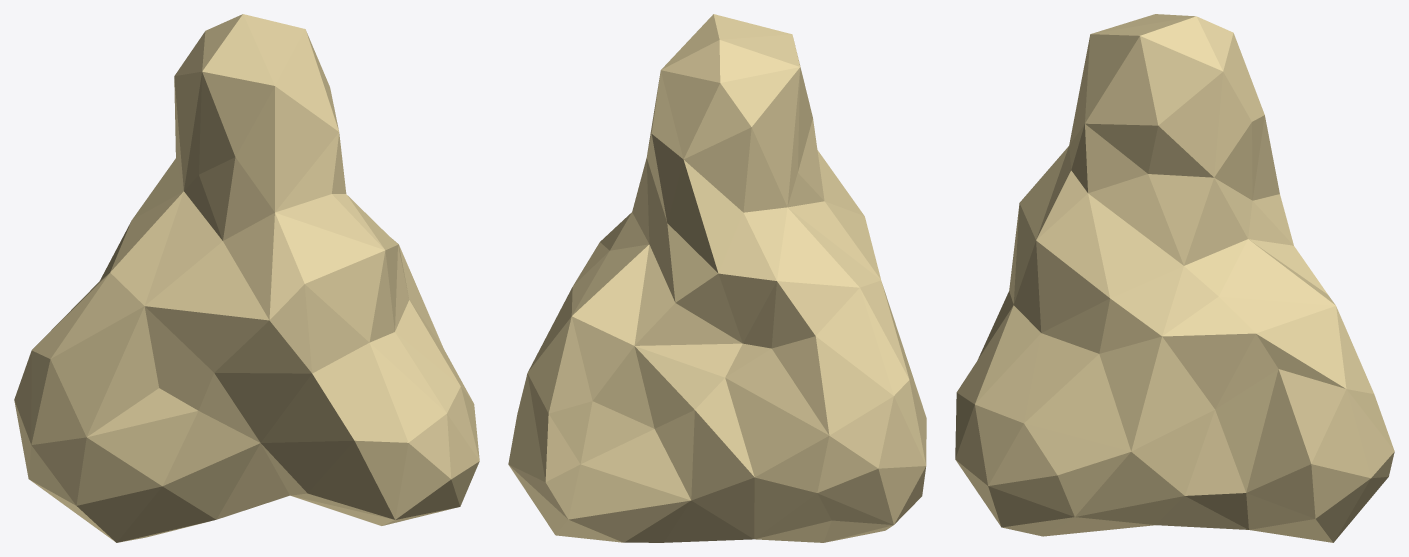
The model's file is Asteroid (1).fbx.
The picture shows the model from 3 angles, left to right: view 1: azimuth 30°, elevation 25°; view 2: azimuth 150°, elevation 25°; view 3: azimuth 270°, elevation 25°; orthographic projection.
Parts seen in each view (by area): view 1: Asteroid153; view 2: Asteroid153; view 3: Asteroid153.
Part boxes in pixels (<box>): Asteroid153: <box>14,14,479,542</box>; Asteroid153: <box>508,14,926,542</box>; Asteroid153: <box>955,14,1394,542</box>.
Size of the model in its own units: 159 by 197 by 160.
